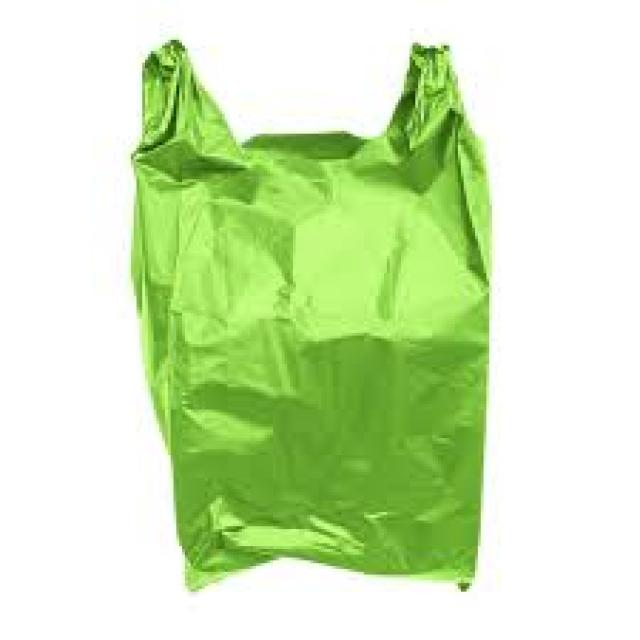Anorganik: (125, 34, 492, 589)
